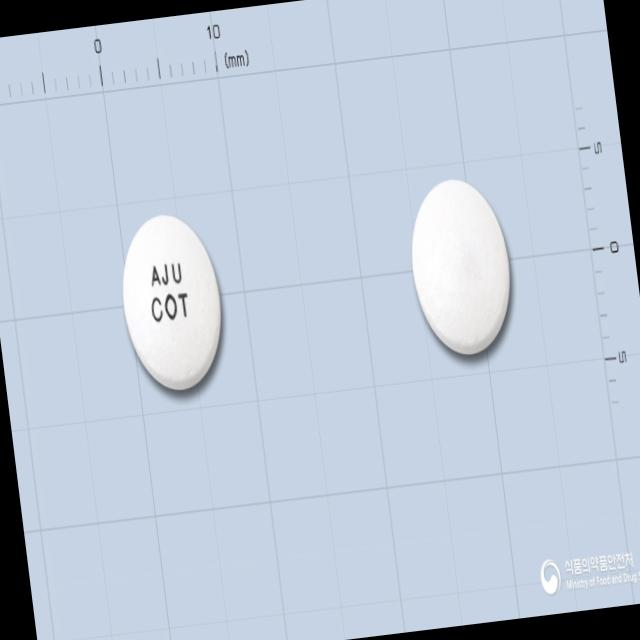Croxacin: (112, 207, 230, 396)
